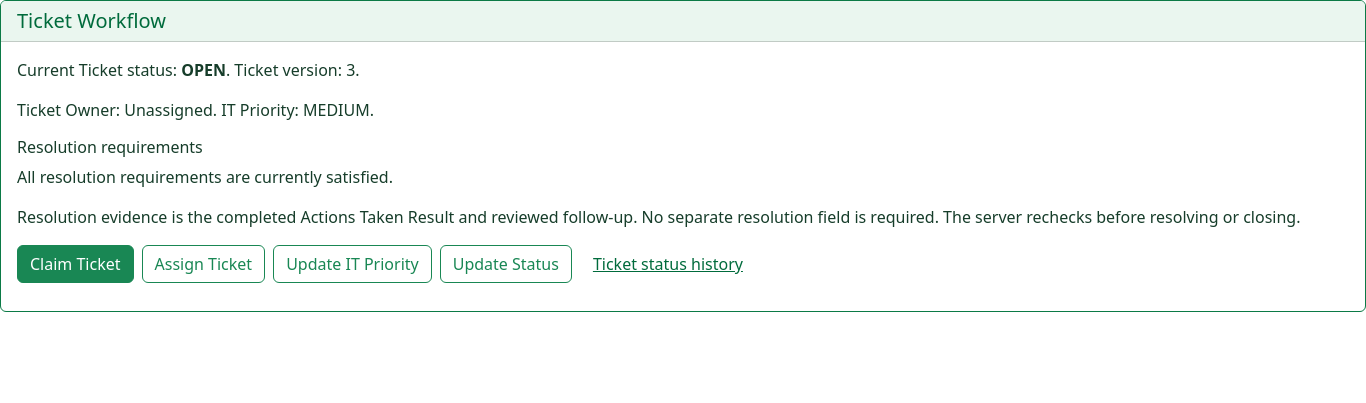
it: Ticket Workflow component (UI-03, I4 AC-01–06) › claims as Staff with a mandatory Ticket version
The width and height of the screenshot is (1366, 403).
Step 1. Click the button "Claim Ticket" → (75, 264), box top-left (17, 245), bottom-right (134, 283)
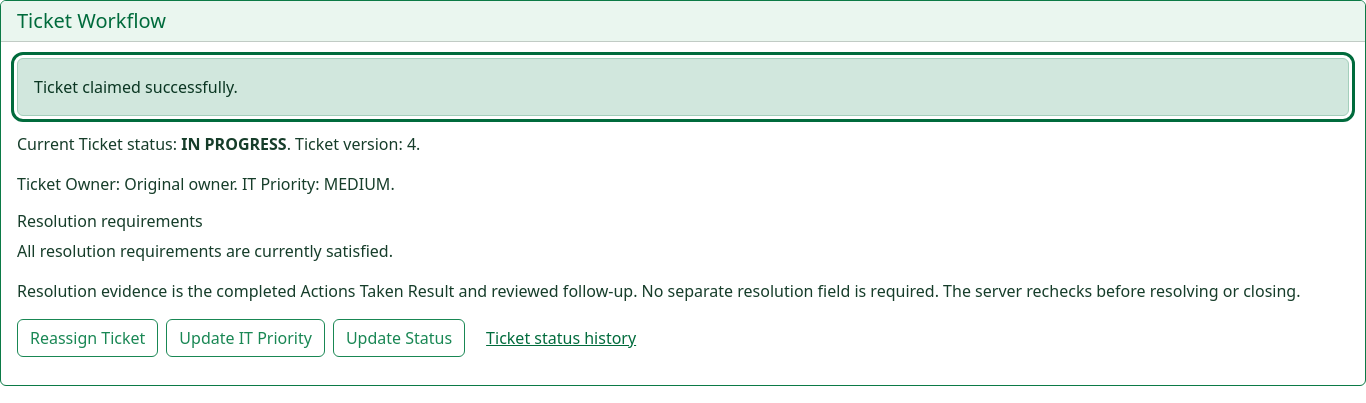
Expected: the text "Ticket claimed successfully." is shown, top-left (17, 58), bottom-right (1349, 116)
